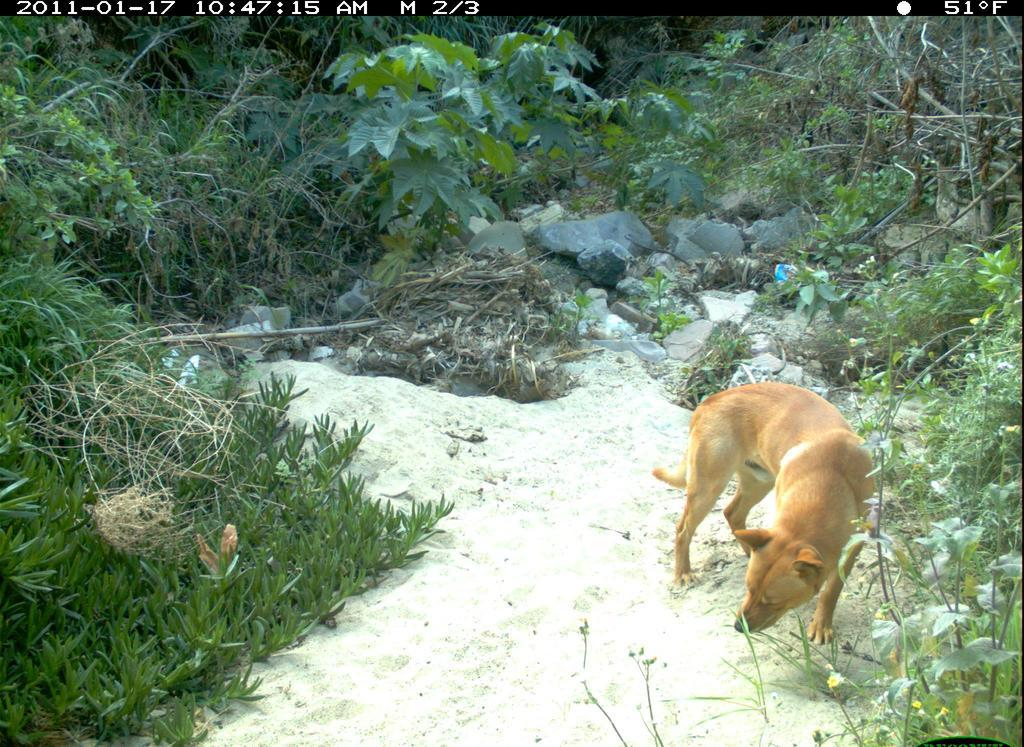dog: (651, 379, 888, 657)
